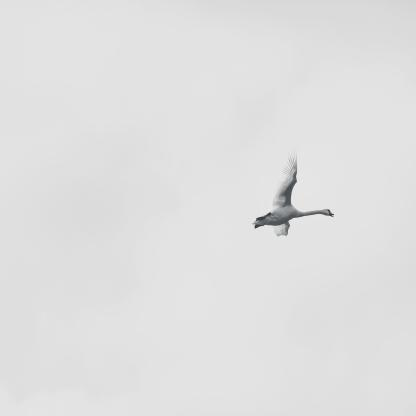bird: (253, 149, 335, 237)
